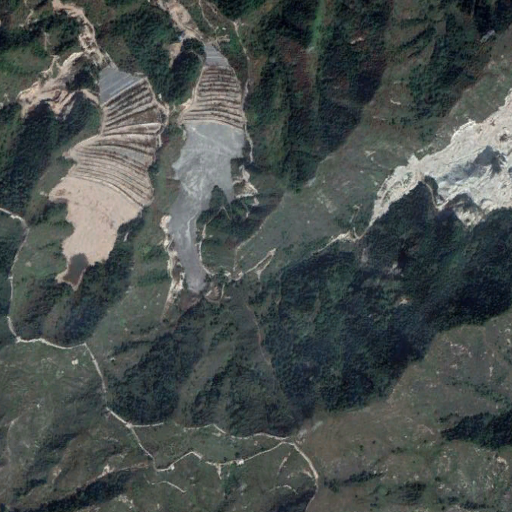tp: (53, 67, 163, 284), (168, 47, 250, 292)
